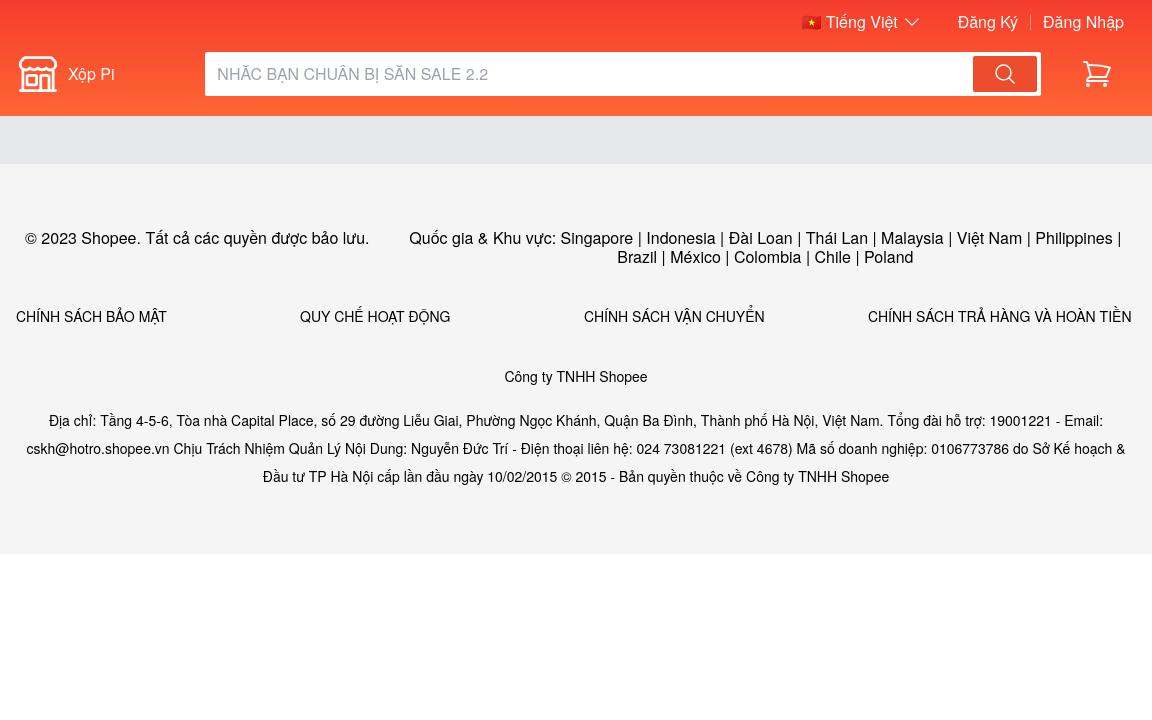
App › App render and navigate
The width and height of the screenshot is (1152, 720).
// verify chuyển sang trang login
Click the link "Đăng nhập": (1084, 22) [1043,12,1124,32]
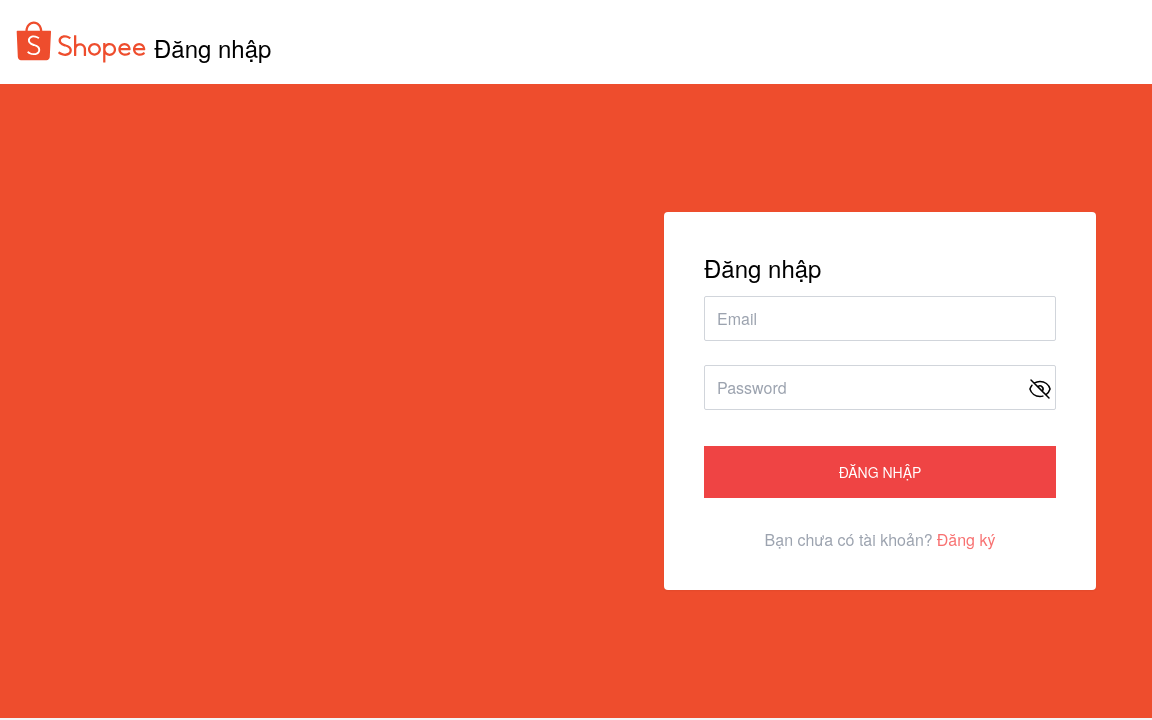
Now the text "Bạn chưa có tài khoản?" is shown, box [765,530,933,550]
